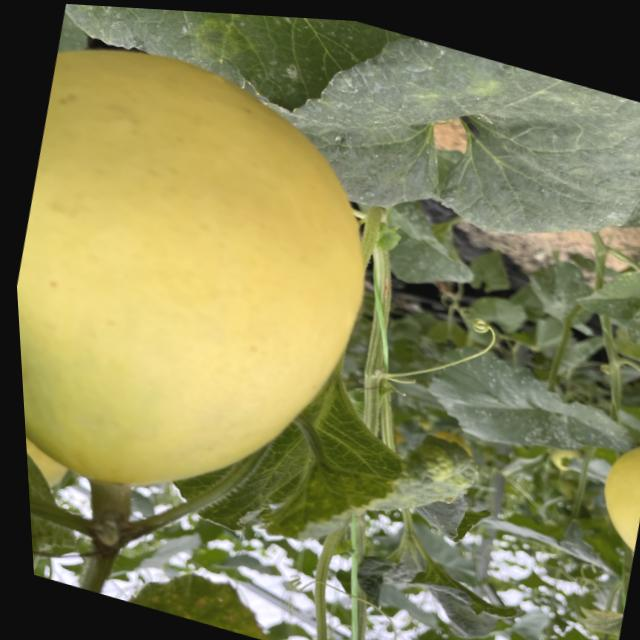downy mildew: (231, 14, 640, 286), (57, 3, 359, 119)
powdery mildew: (54, 3, 382, 139)
